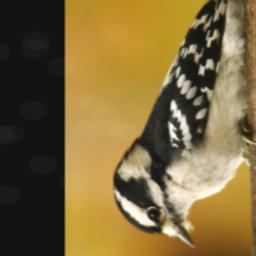Woodpecker: (101, 0, 256, 253)
